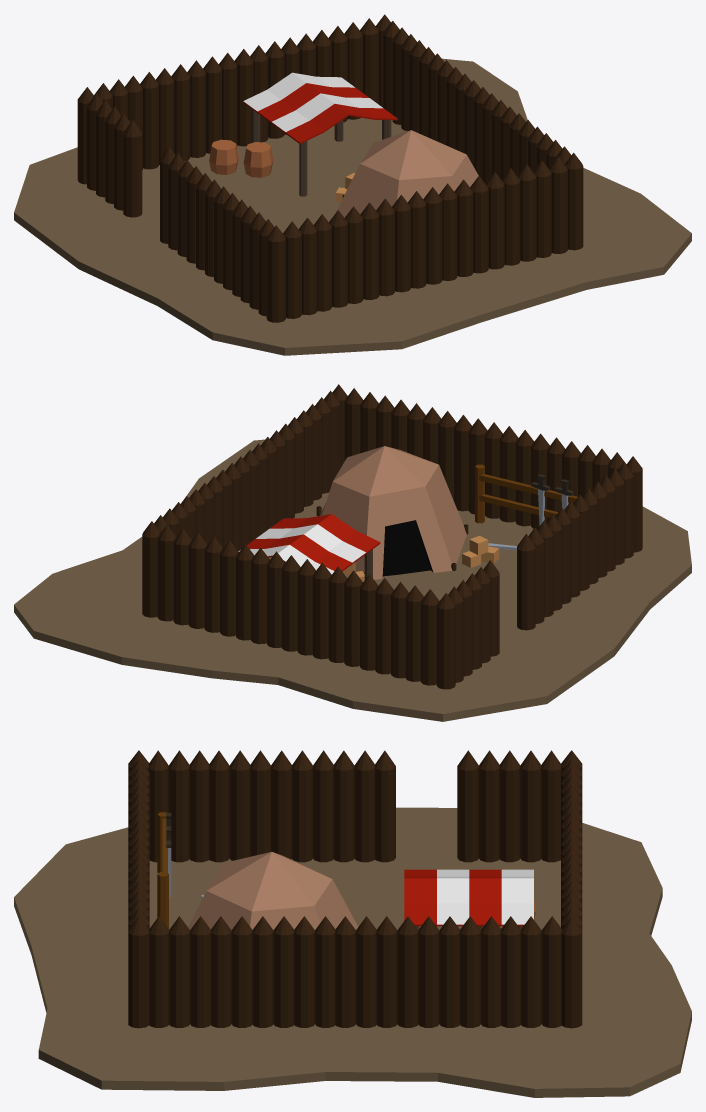
Rendered from FortressFinal.fbx.
The picture shows the model from 3 angles, top to bottom: view 1: azimuth 30°, elevation 25°; view 2: azimuth 150°, elevation 25°; view 3: azimuth 270°, elevation 25°; orthographic projection. The views are drawn at different scales.
Parts seen in each view (by area): view 1: Cylinder.017; view 2: Cylinder.017; view 3: Cylinder.017.
Part boxes in pixels (box(x1,y1,x2,y2)): Cylinder.017: box(14, 14, 691, 355); Cylinder.017: box(14, 384, 691, 721); Cylinder.017: box(14, 750, 691, 1097).
Size of the model in its own units: 80.35 by 18.42 by 81.81.
